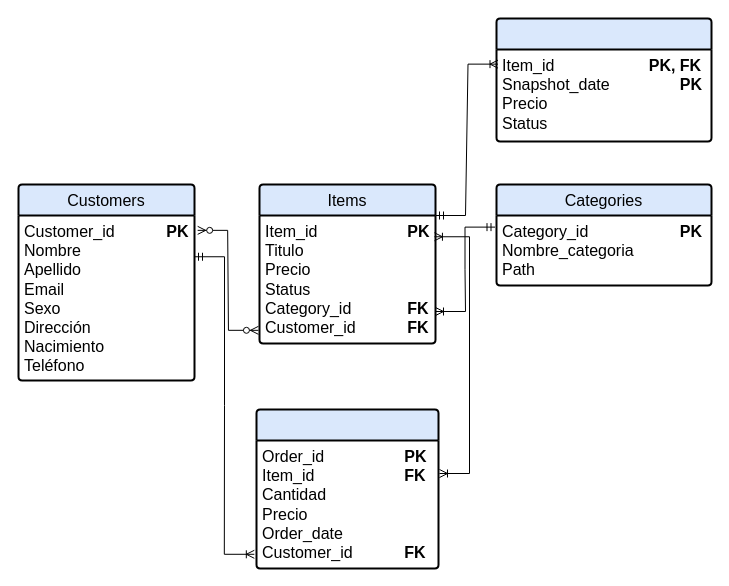
This 729x586 diagram has some shape labels left out. The box of each missing label's shape, as (x1, y1, x2, y2) in pixels:
Item_History: (495, 17, 712, 142)
Orders: (255, 408, 439, 569)
